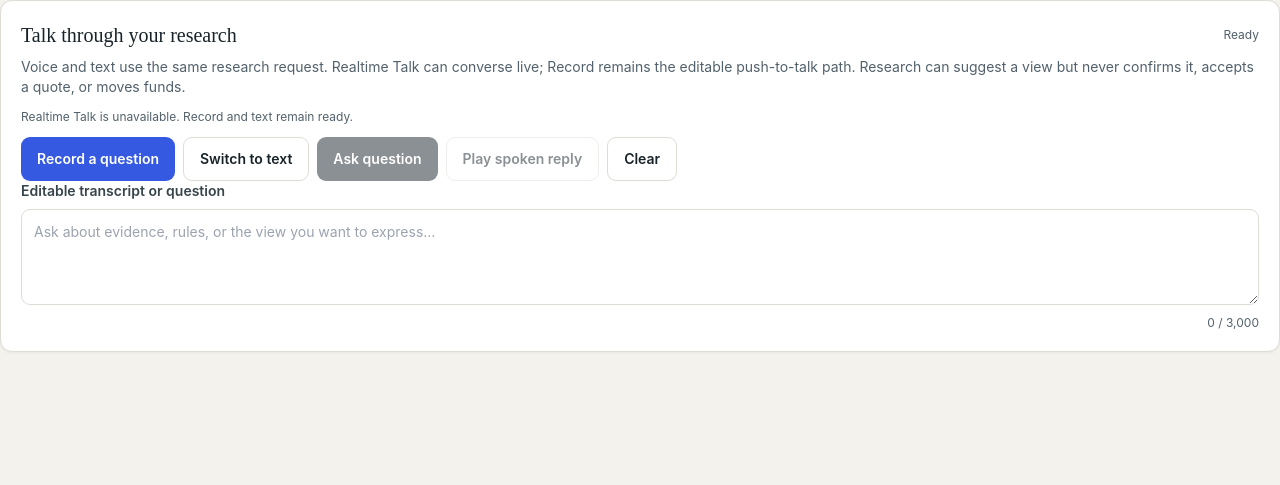
Test: VoicePanel interaction flows › discards an active recording without uploading it
This screenshot has width=1280, height=485.
Click the button "Record a question".
click(98, 159)  # box [21,137,175,181]
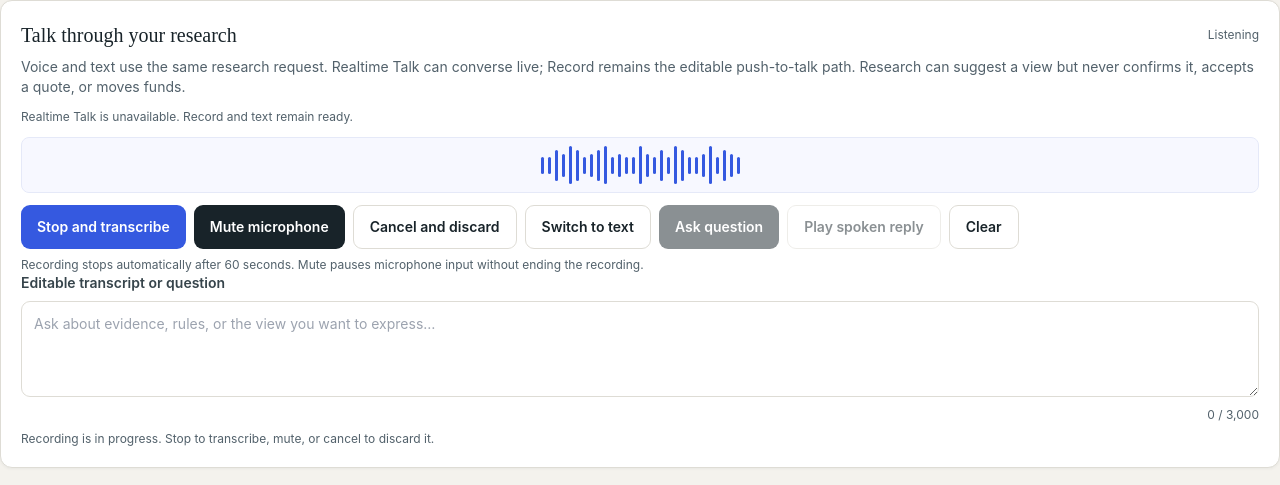
Expected: the text "Listening" is shown, [1208,27,1259,43]
Click the button "Cancel and discard".
click(435, 227)  # box [353,205,516,249]
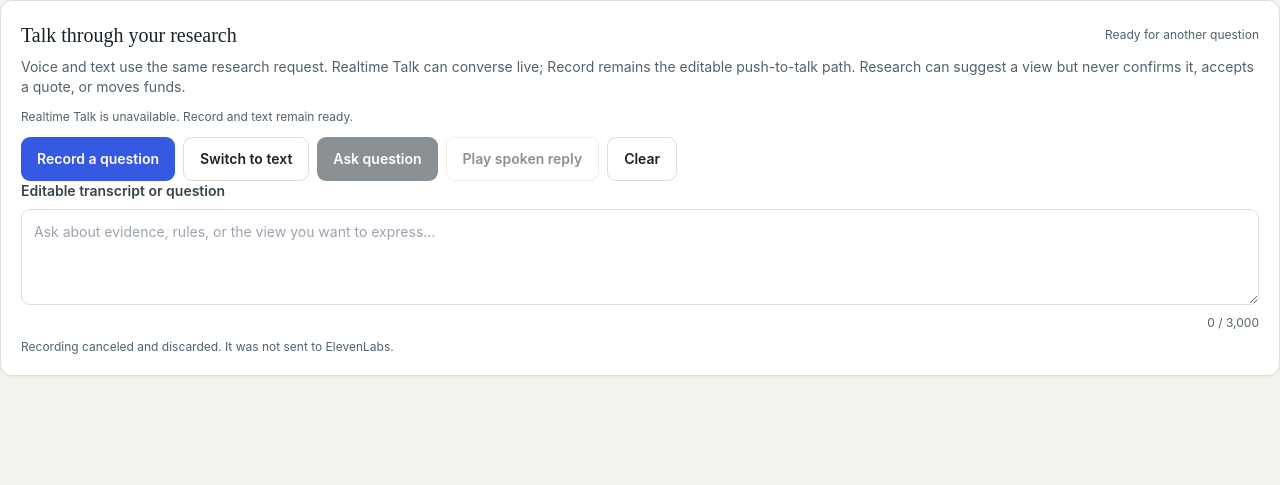
Expected: the text "Recording canceled and discarded. It was not sent to ElevenLabs." is shown, [21,339,394,354]
